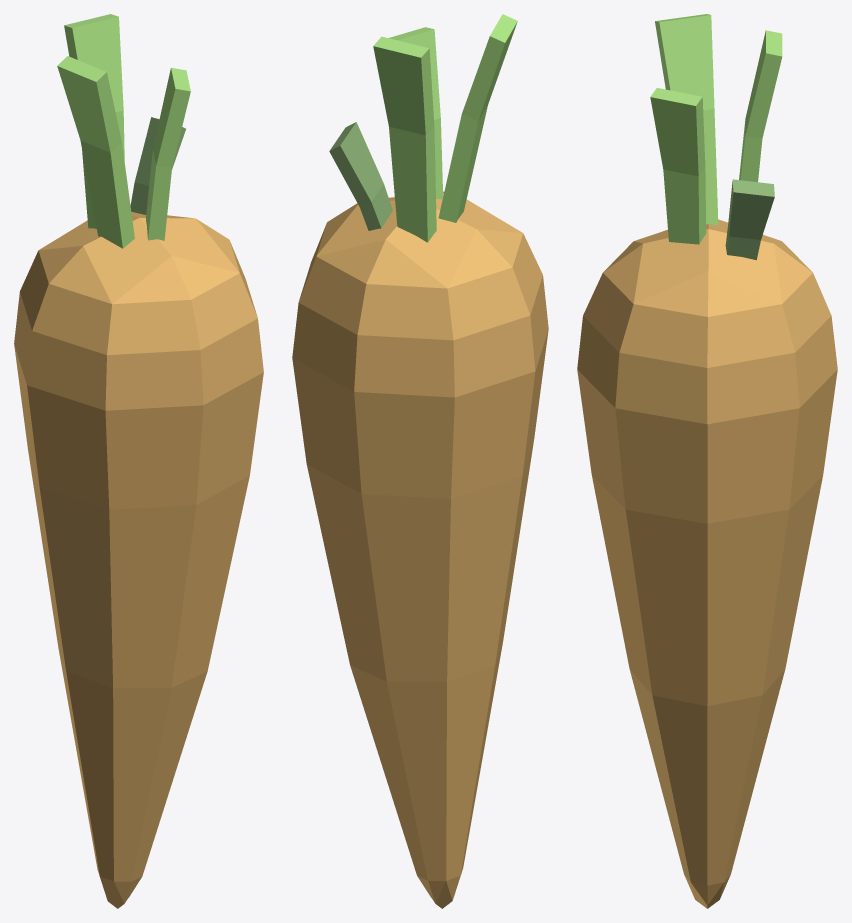
Rendered from carrot.glb.
3 renders of one model, left to right at view 1: azimuth 30°, elevation 25°; view 2: azimuth 150°, elevation 25°; view 3: azimuth 270°, elevation 25°, orthographic. The views are drawn at different scales.
Visible parts, largest first — view 1: Carrot_Crop; view 2: Carrot_Crop; view 3: Carrot_Crop.
Part boxes in pixels (bbox=[...]): Carrot_Crop: bbox=[14, 14, 263, 908]; Carrot_Crop: bbox=[292, 14, 548, 908]; Carrot_Crop: bbox=[577, 14, 837, 908].
Bounding box in the file's own units: 0.239 × 0.8809 × 0.239.
